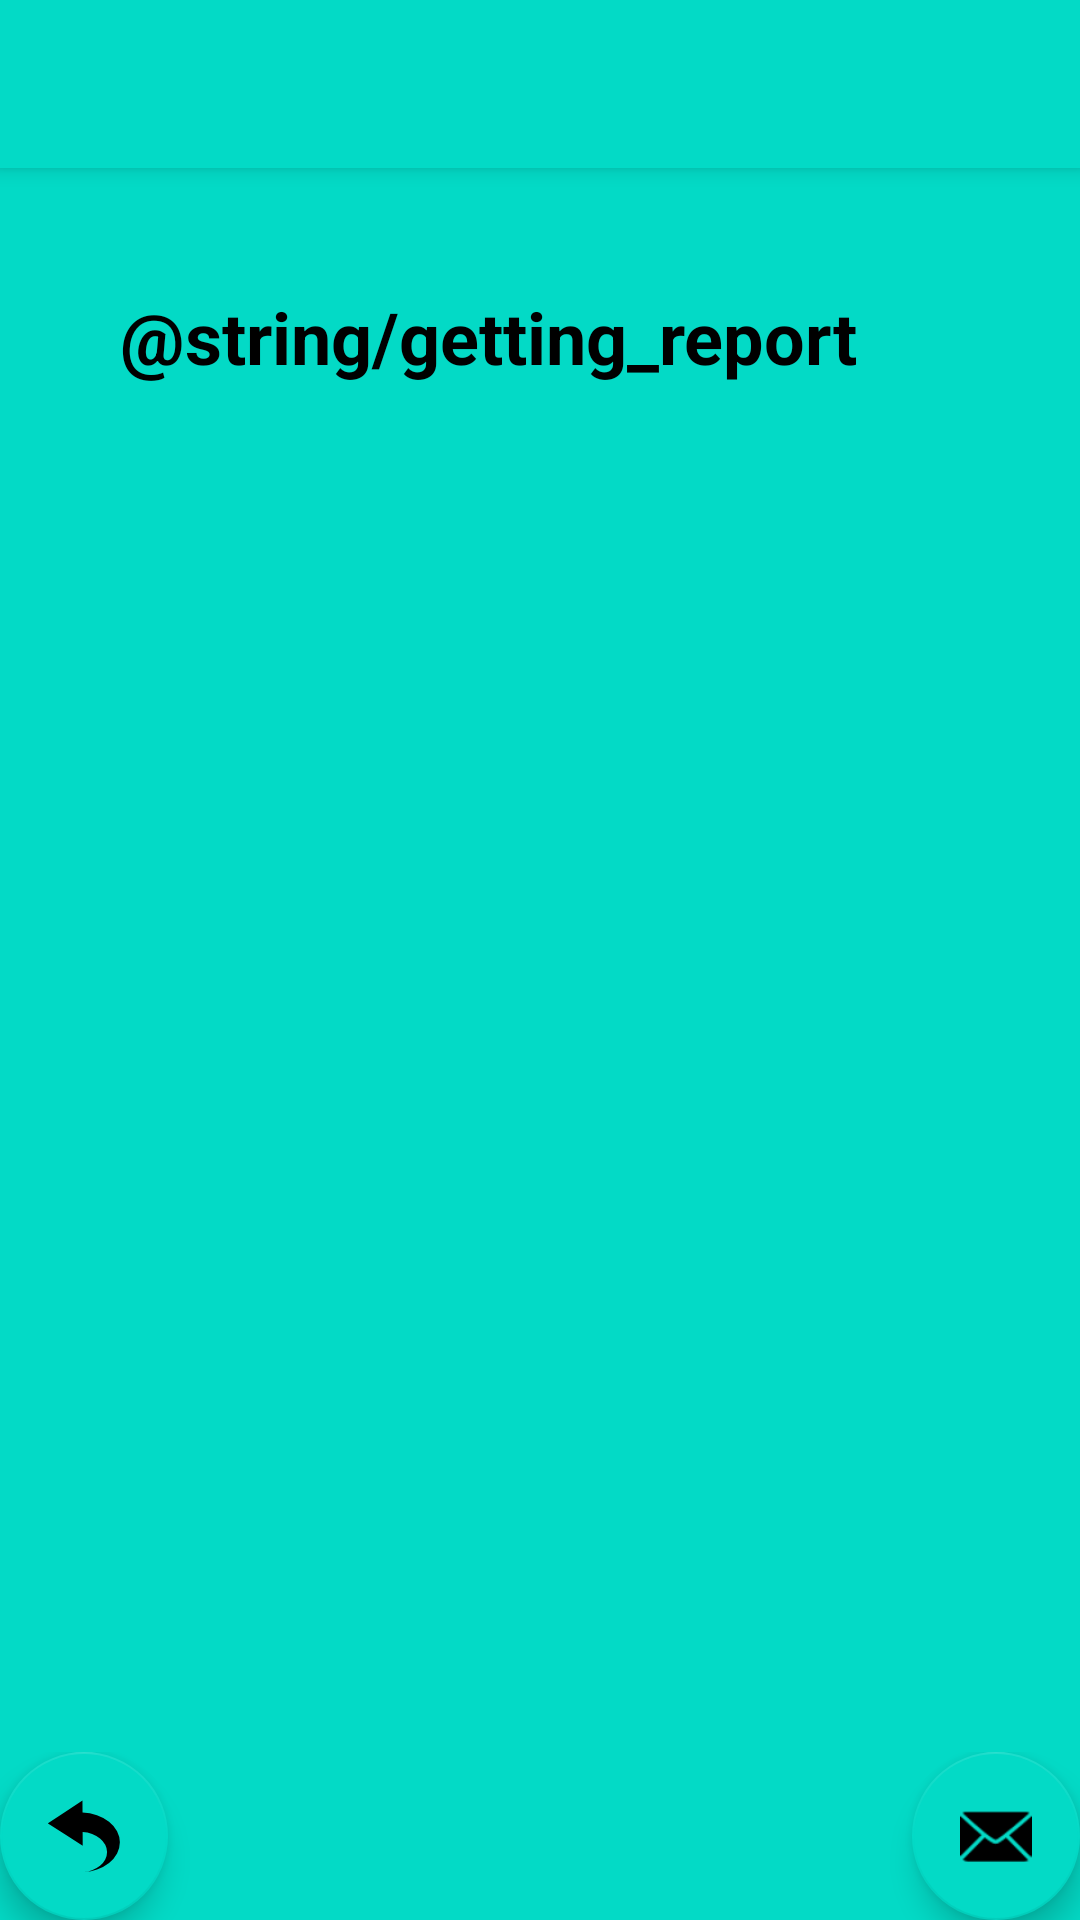

Icon click points for this 1080*1920 phone screenshot, format (x,y):
email: (1001,1836)
return: (78,1836)
